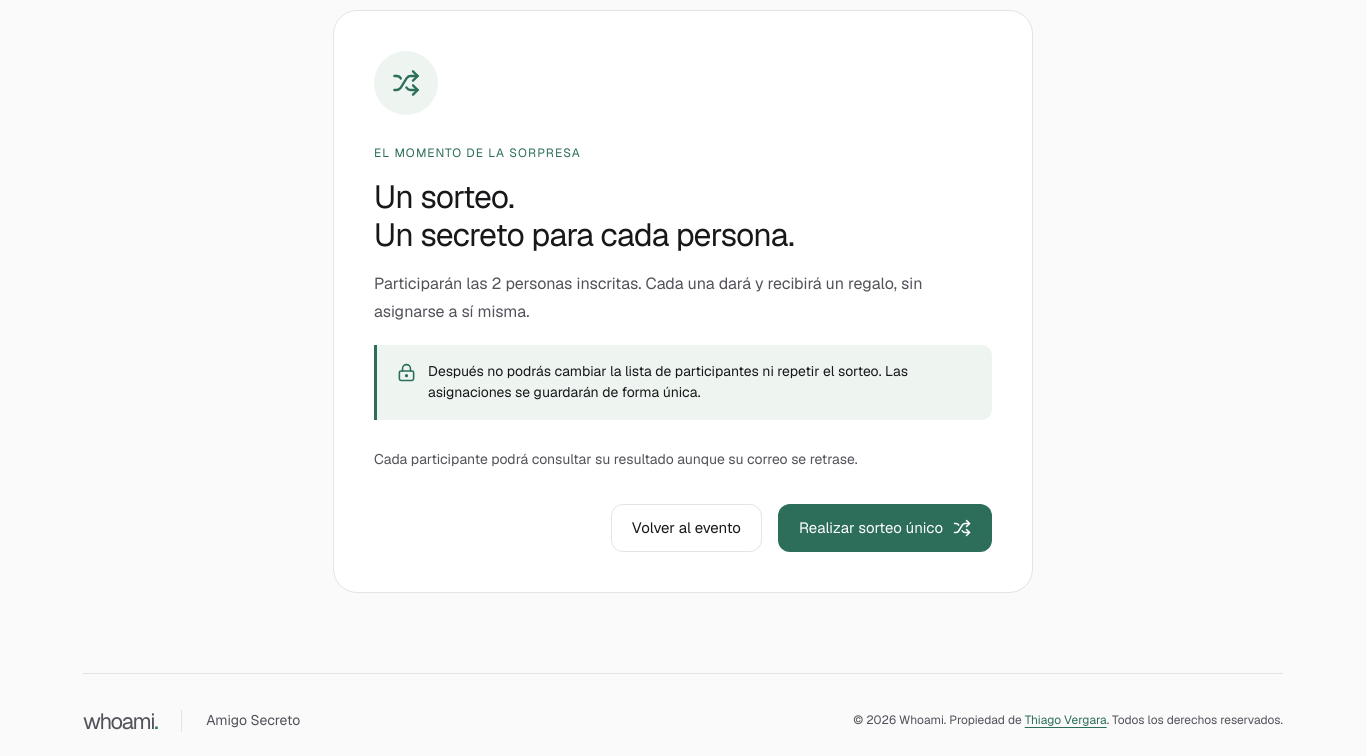
Test: Organizar y participar › sortea una sola vez y no consulta asignaciones del grupo
(page scrolled)
Step 1. Click the button "Realizar sorteo único" → (885, 528), box x1=778 y1=504 x2=992 y2=552
(page scrolled)
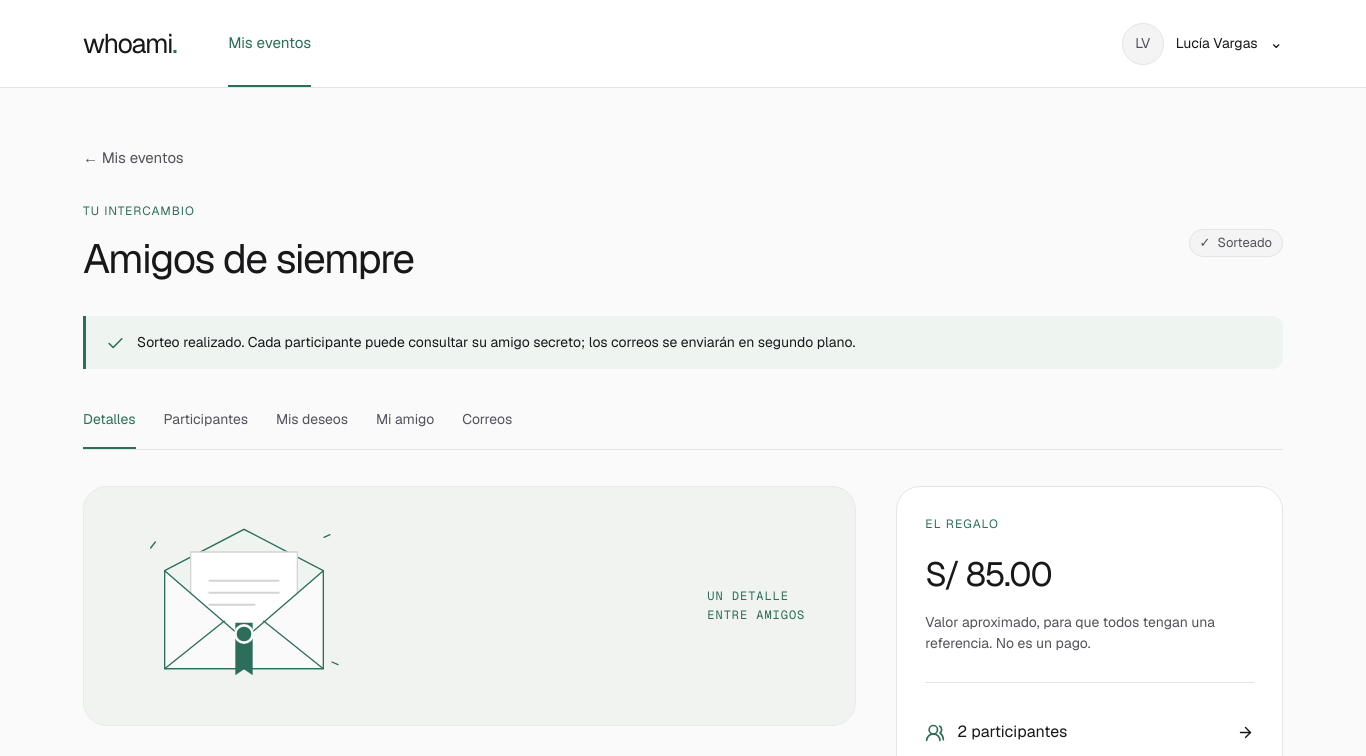
expect the text "Cada participante puede consultar su amigo secreto; los correos" is shown: met, box x1=137 y1=332 x2=855 y2=350
